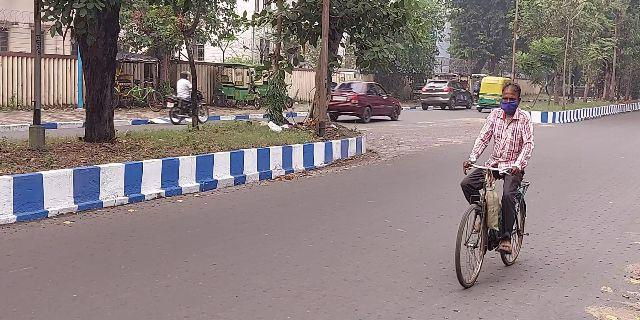Autorickshaw: (481, 76, 502, 110)
Car: (332, 76, 404, 127), (418, 74, 474, 112)
Cycle: (446, 79, 542, 288)
